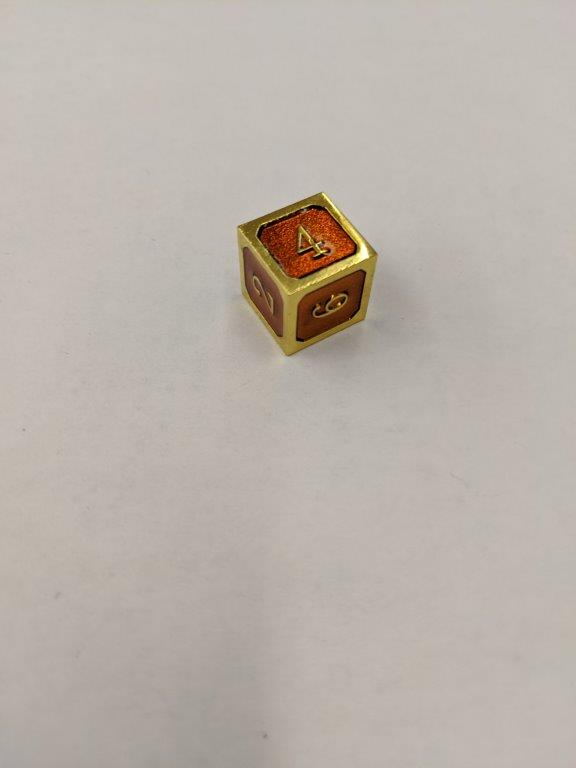d6-4: (238, 189, 378, 357)
